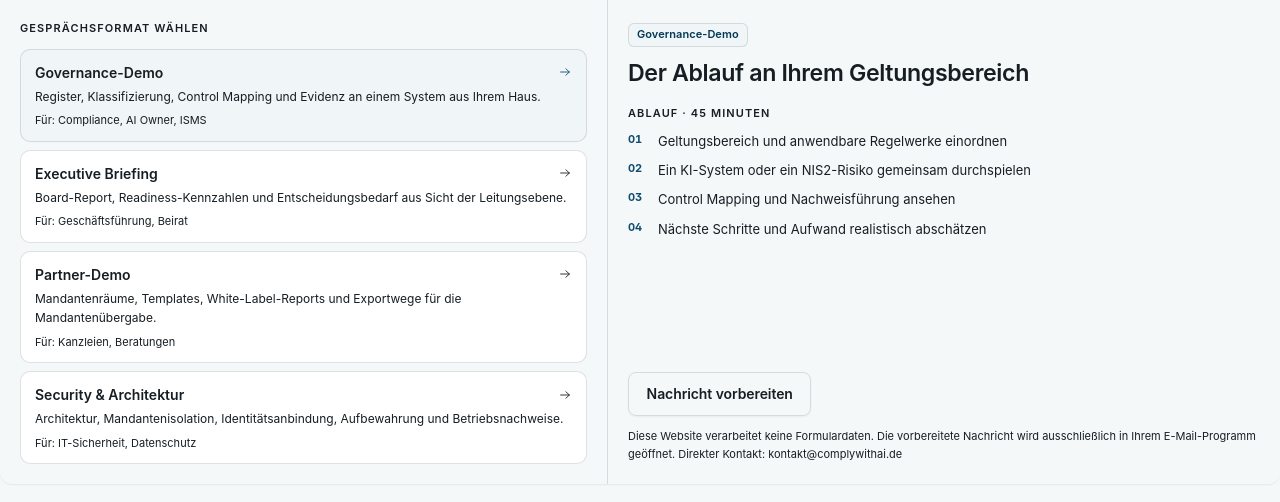
Scenario: DemoRequestPathways › markiert das aktive Format für Tastatur- und Screenreader-Nutzung
The image size is (1280, 502).
Click the button "Security & Architektur". click: (304, 418)
box: [20,371,587,464]
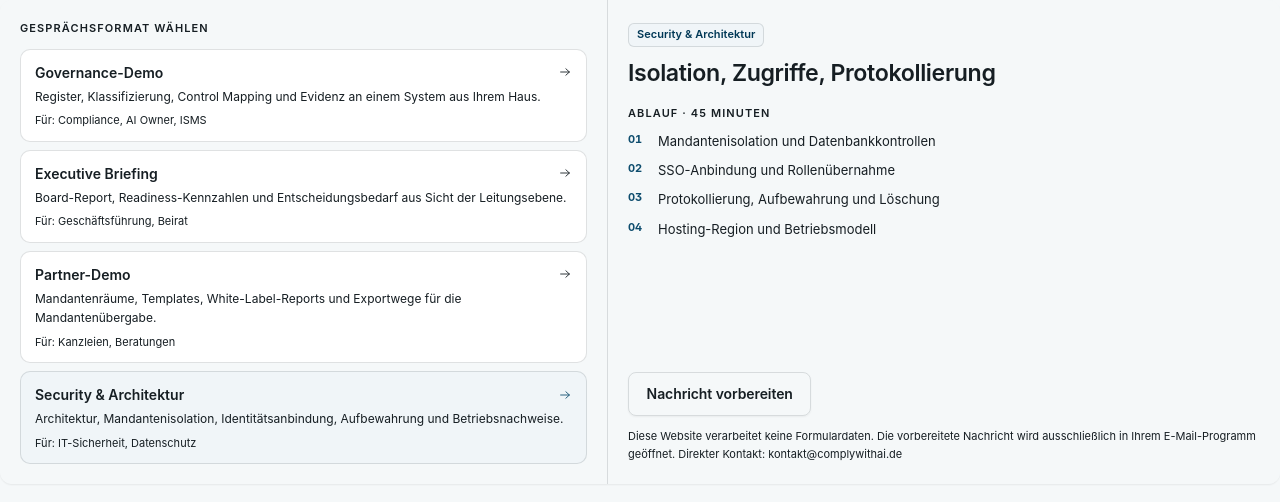
Now the heading "Isolation, Zugriffe, Protokollierung" is shown, box [628,59,996,87]
